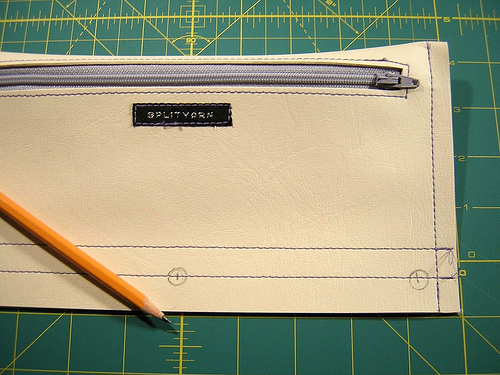pen_tip: (135, 289, 175, 331)
